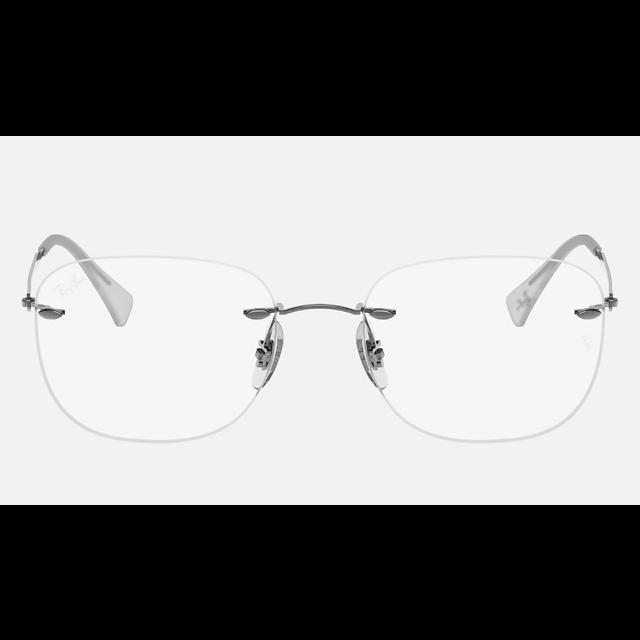glasses: (24, 232, 616, 442)
